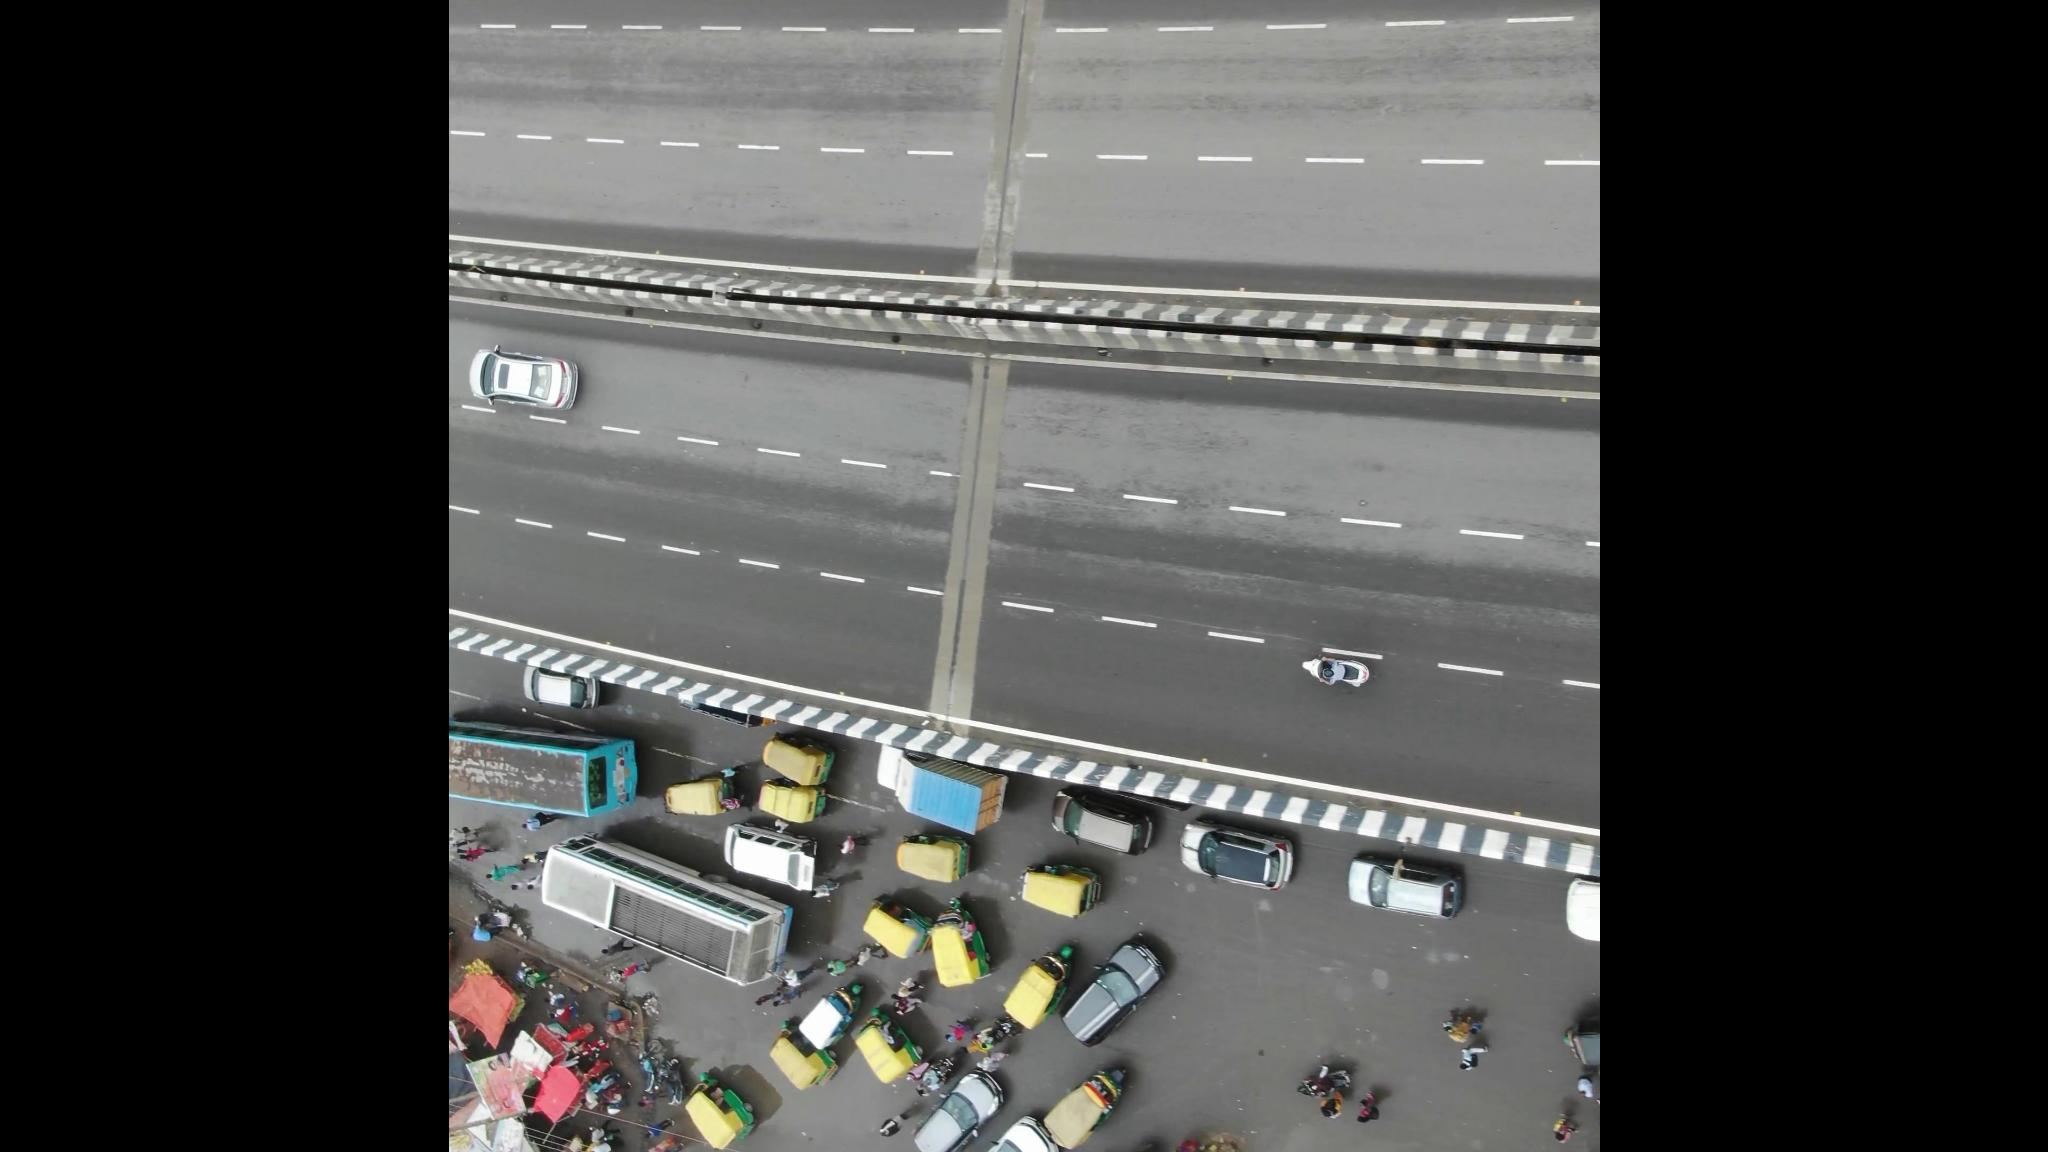Potholes: (1335, 952, 1407, 1023), (1412, 933, 1485, 997), (1110, 866, 1203, 911), (1253, 893, 1290, 947)
